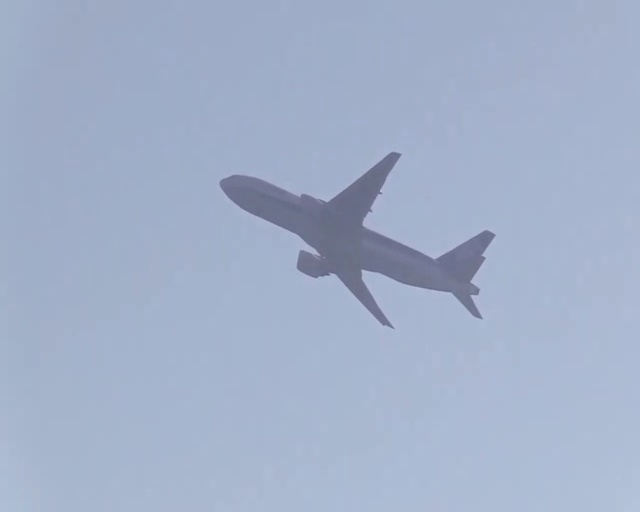AIRPLANE: (219, 148, 496, 331)
